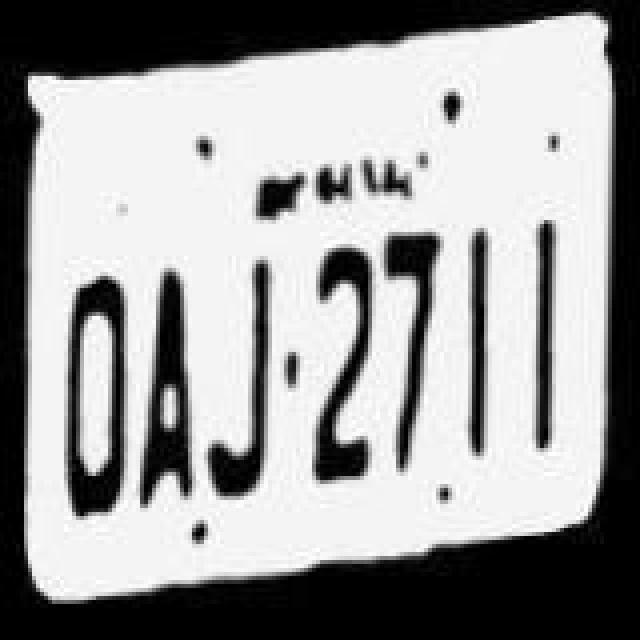1: (514, 194, 570, 470), (446, 214, 502, 458)
2: (302, 240, 382, 492)
7: (370, 224, 450, 480)
A: (130, 260, 198, 512)
J: (198, 250, 282, 510)
O: (50, 262, 134, 530)
